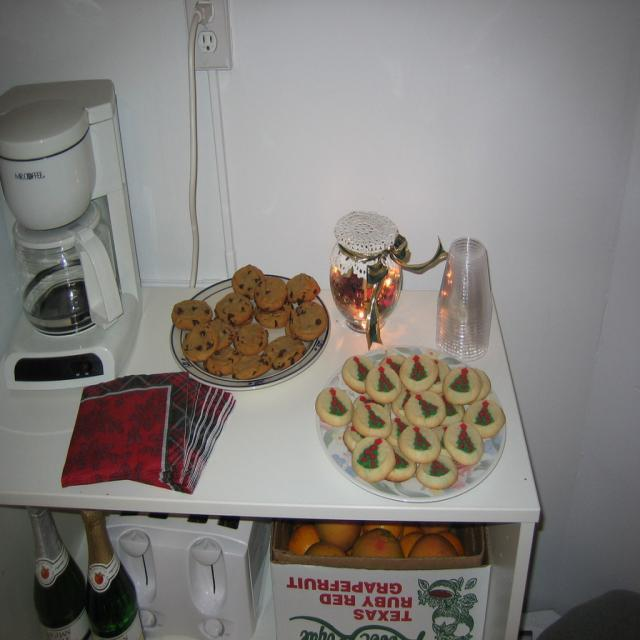Coffee-Machine: (6, 55, 158, 405)
